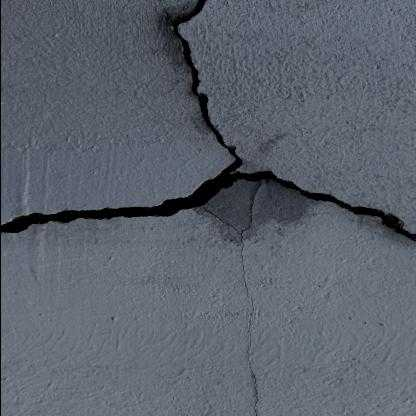crack: (0, 0, 416, 243)
